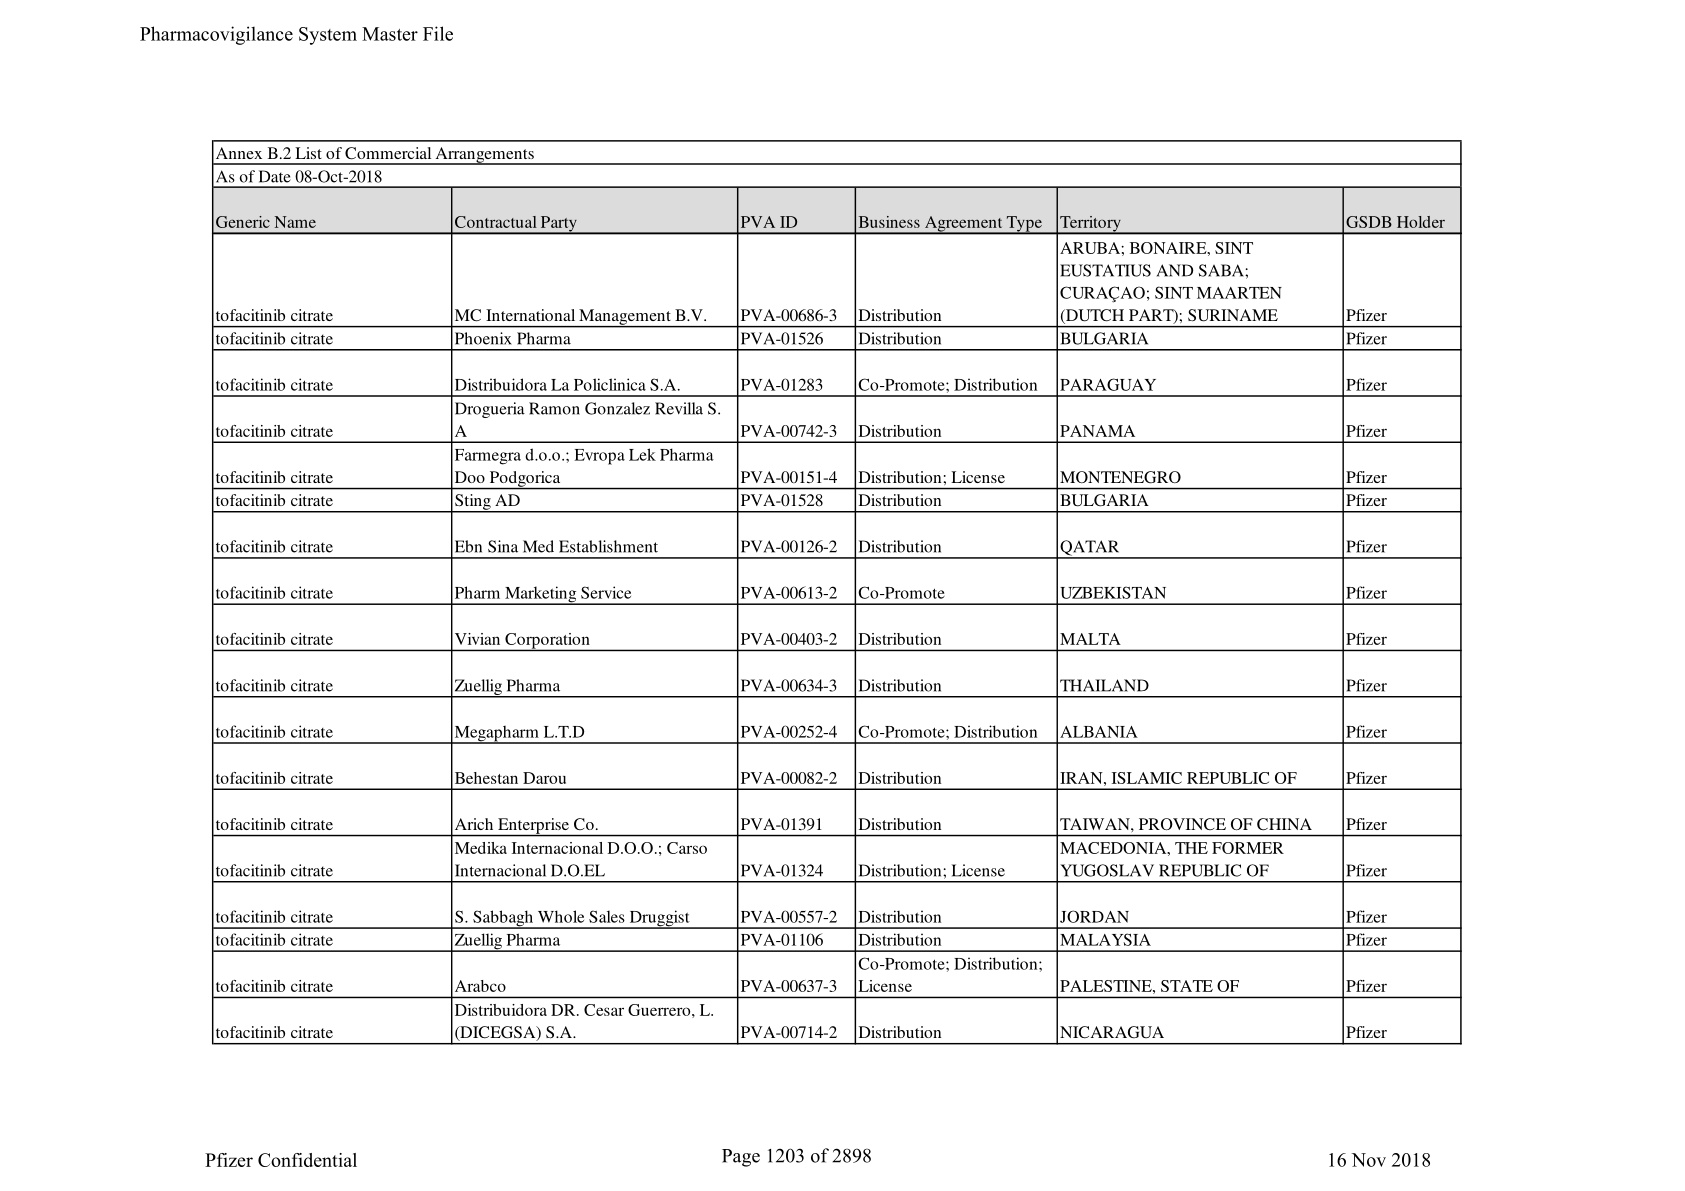merged_cells: (211, 139, 1462, 1045)
